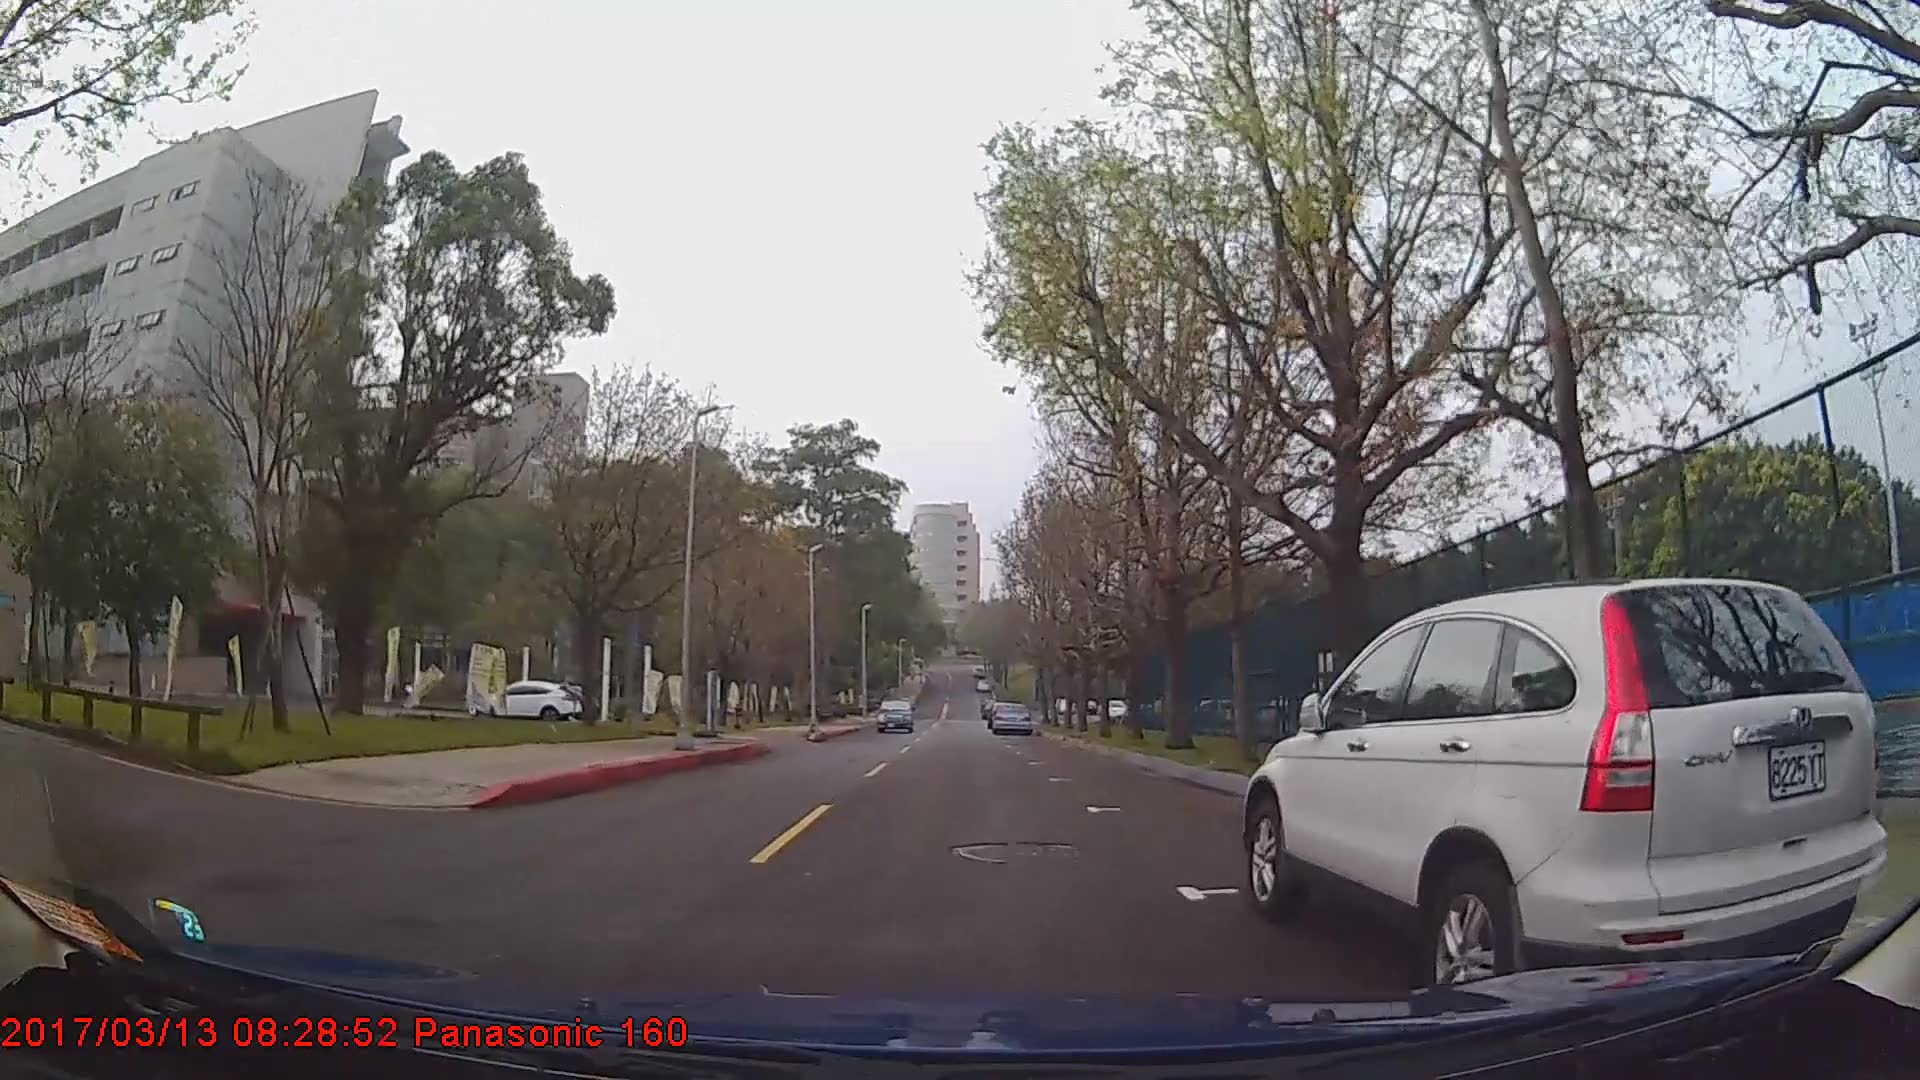vehicle: (1238, 578, 1892, 1019), (473, 678, 580, 723), (990, 699, 1030, 735), (877, 695, 914, 731)
